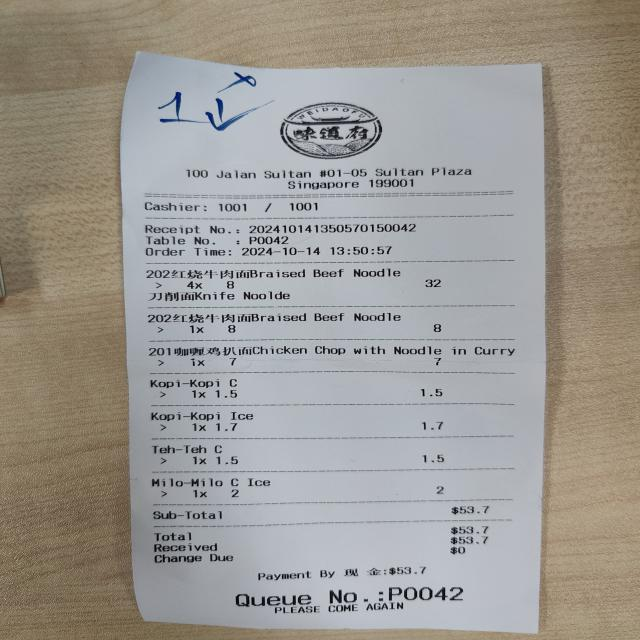bill_region: (128, 264, 522, 570)
